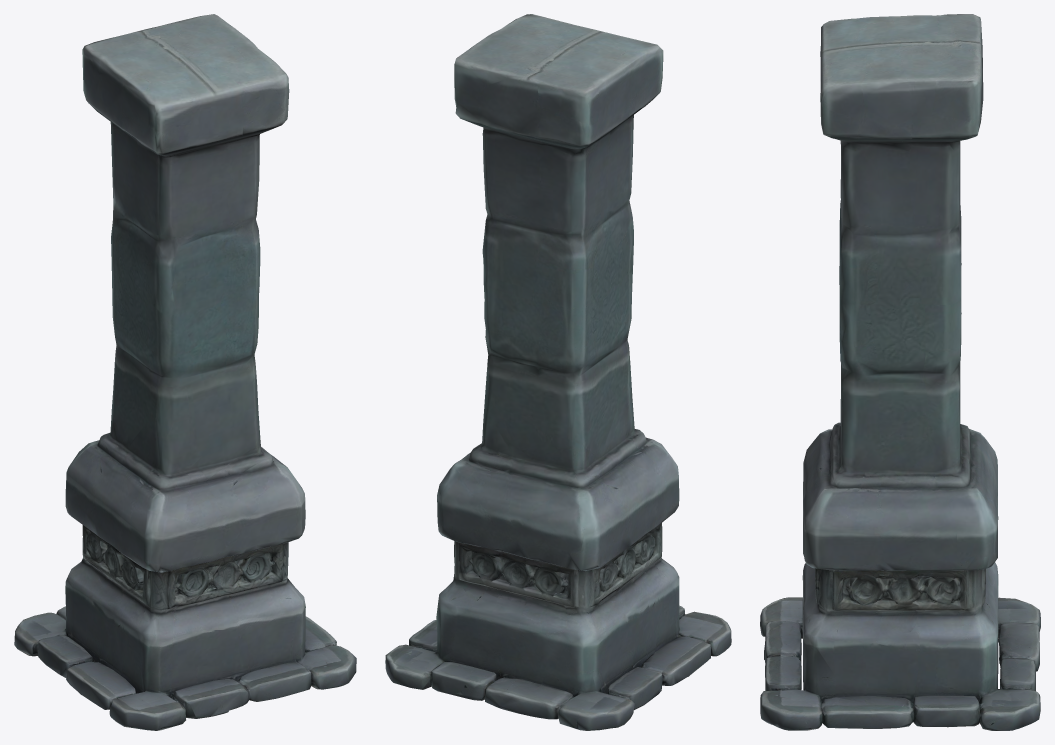
The model's file is pillar.glb.
The picture shows the model from 3 angles, left to right: view 1: azimuth 30°, elevation 25°; view 2: azimuth 150°, elevation 25°; view 3: azimuth 270°, elevation 25°; orthographic projection. The views are drawn at different scales.
Bounding box in the file's own units: 0.775 × 1.9 × 0.7739.
1 material, 1 textured.
